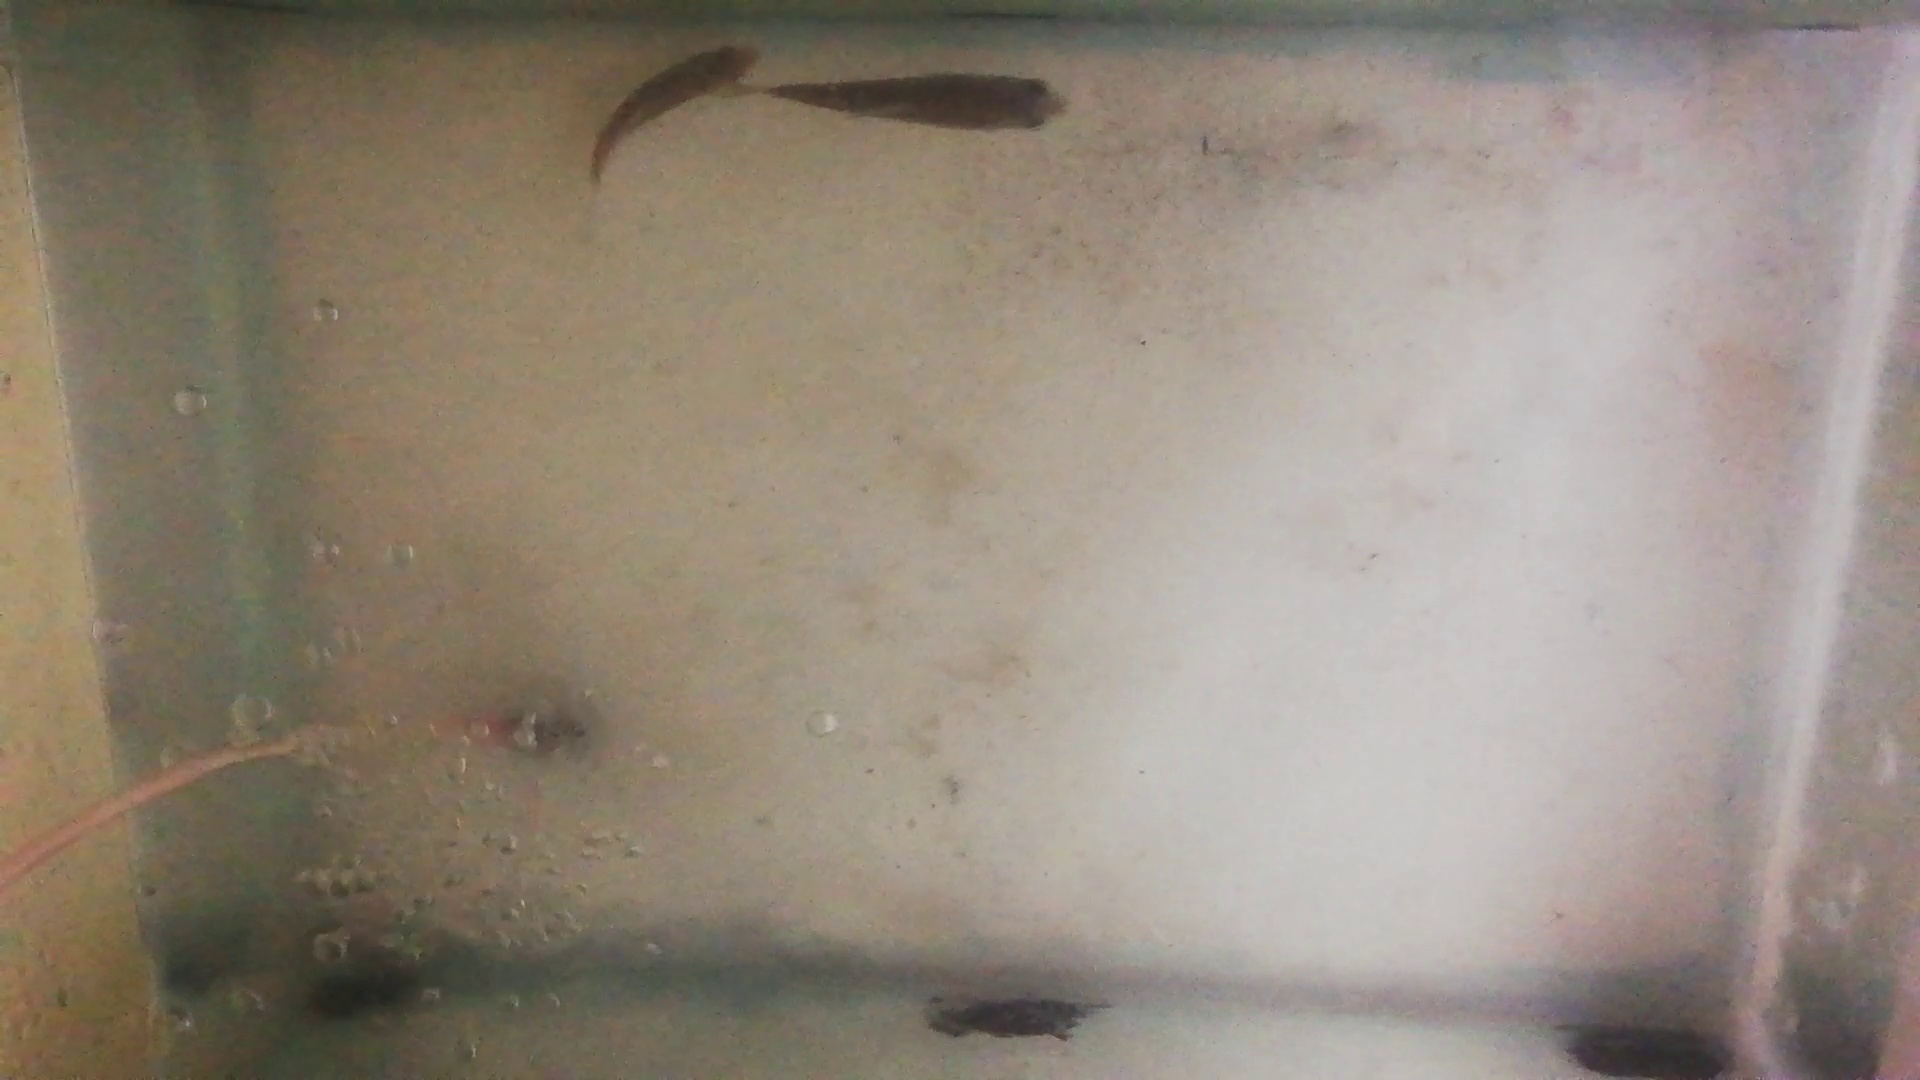fish: (584, 45, 767, 182), (769, 73, 1073, 135)
